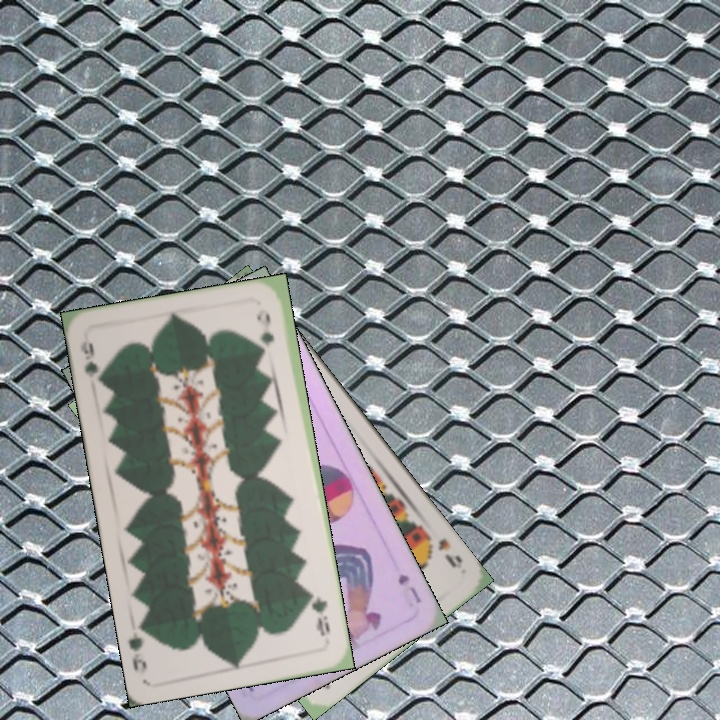G9: (76, 338, 108, 390), (305, 589, 333, 639)
S9: (419, 526, 465, 571)
SU: (393, 569, 424, 607)
